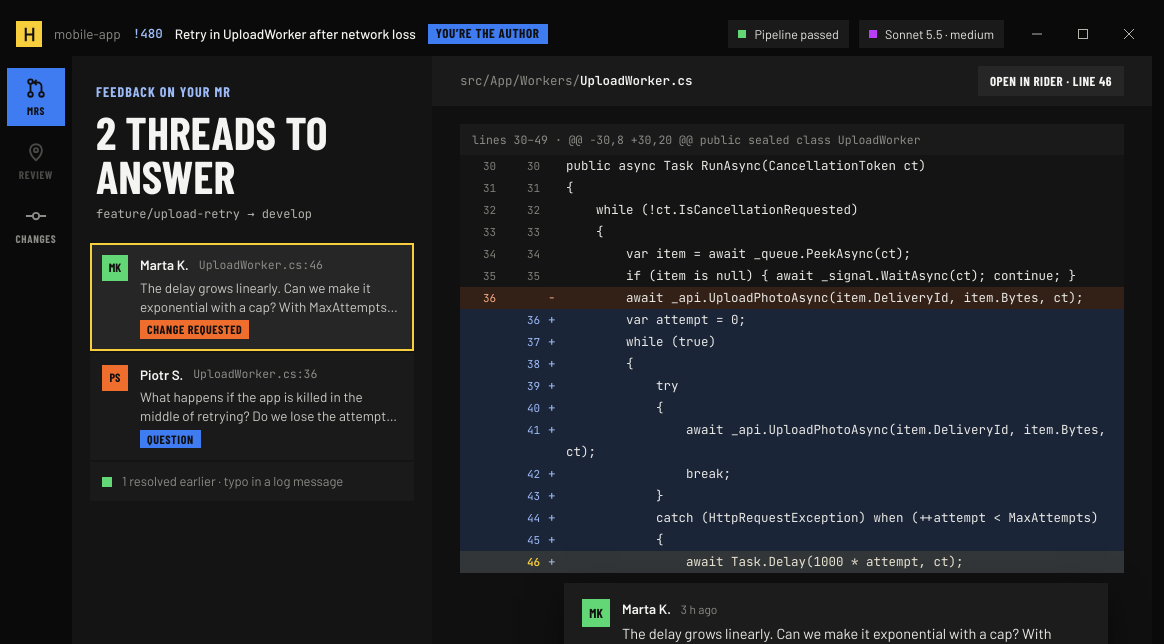
Test: S-10 question thread: reply composer (F-26.7) › F-26.7 a failed draft says so, keeps what was typed and offers Draft with Claude again
The width and height of the screenshot is (1164, 644).
Click the option that starts with "Piotr S.".
click(252, 406)  # box [90,353,414,460]
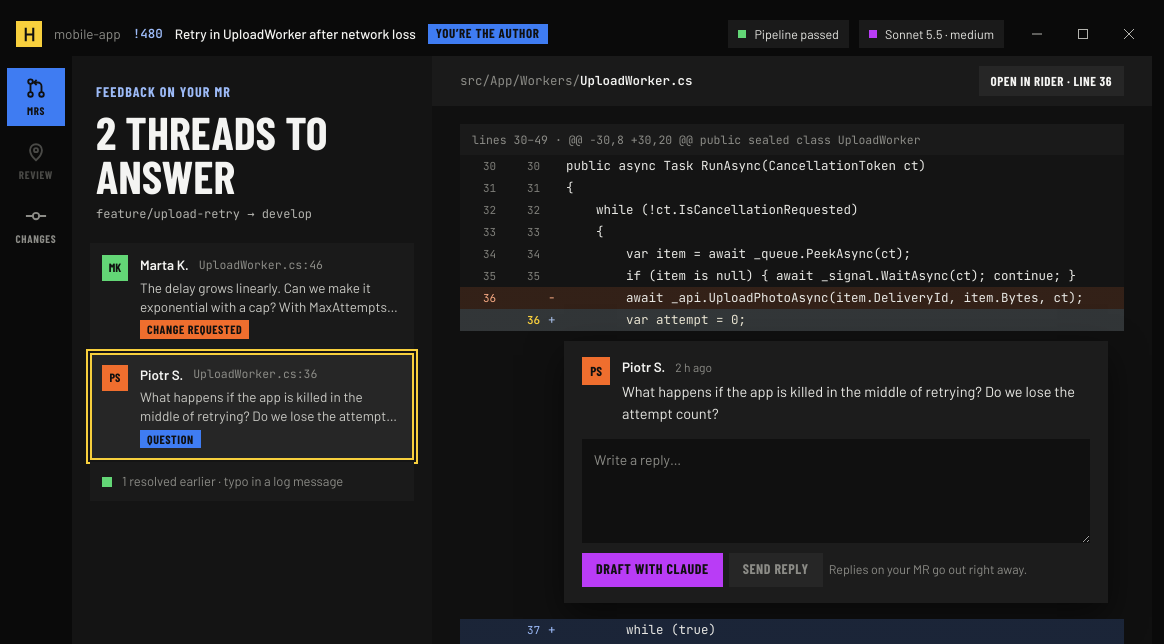
Check: the button "Open in Rider · line 36" is shown, box [978,66,1124,96]
Check: the text "What happens if the app is killed in the middle of retrying?" below "2 h ago" is shown, box [622,382,1078,422]
Type "My own start" into the text box.
click(836, 490); type("My own start")  # box [582,438,1090,542]
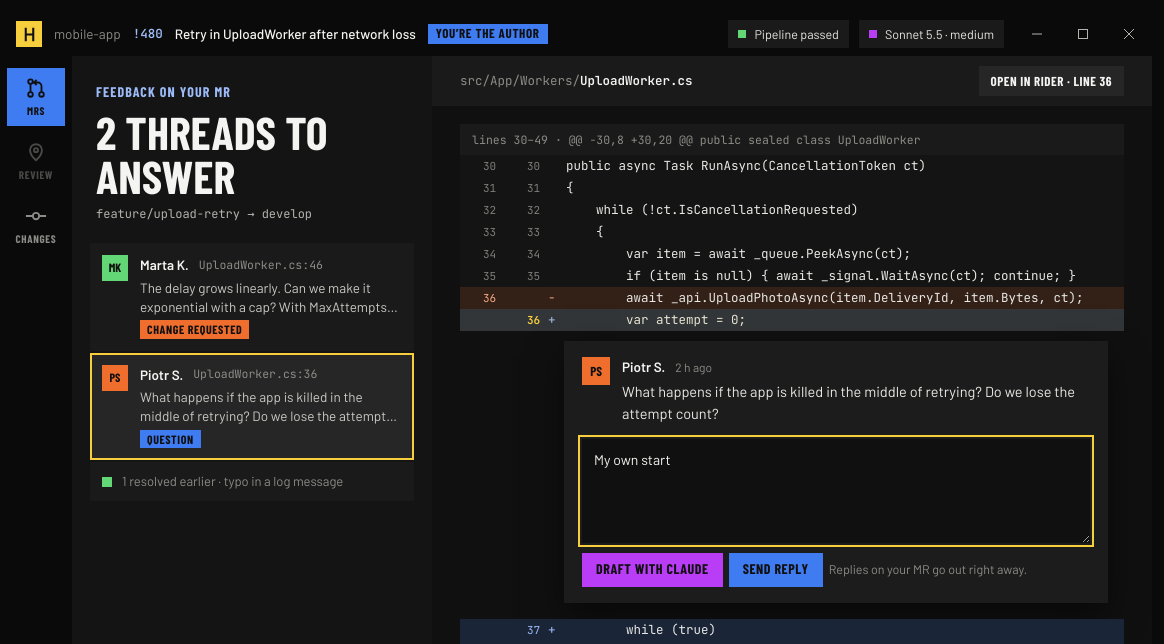
Click the button "Draft with Claude".
click(652, 570)  # box [582,552,723,586]
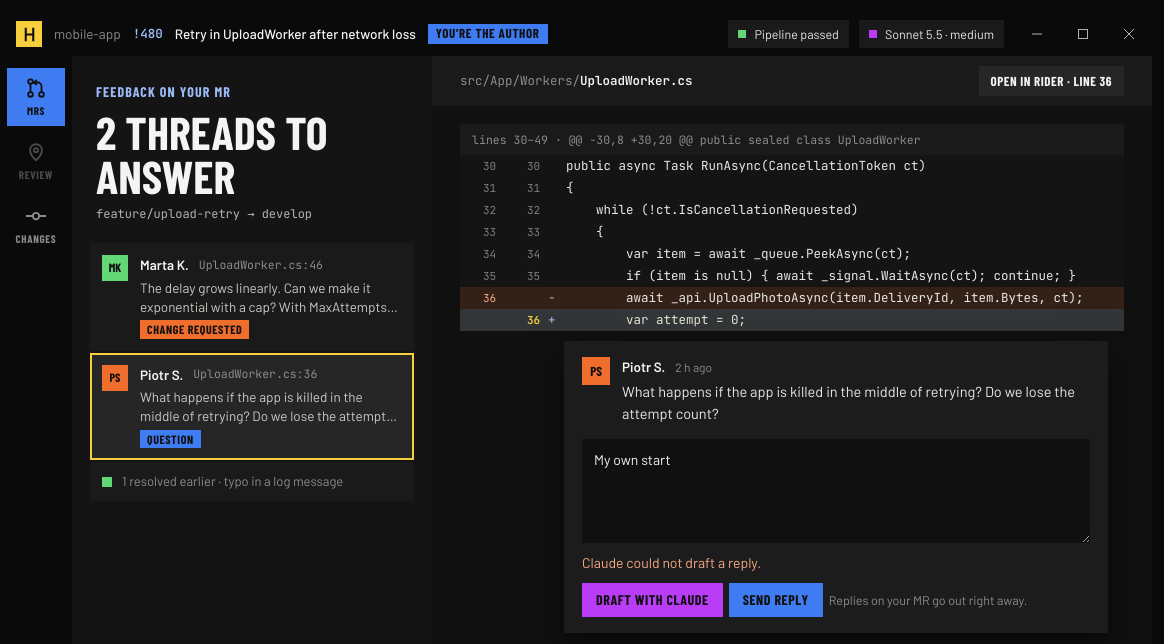
Check: the button "Draft with Claude" is enabled
Check: the button "Send reply" is enabled, box [729,583,823,617]
Check: the message reads "Claude could not draft a reply.", box [582,554,761,570]
Click the button "Draft with Claude".
click(652, 600)  # box [582,583,723,617]
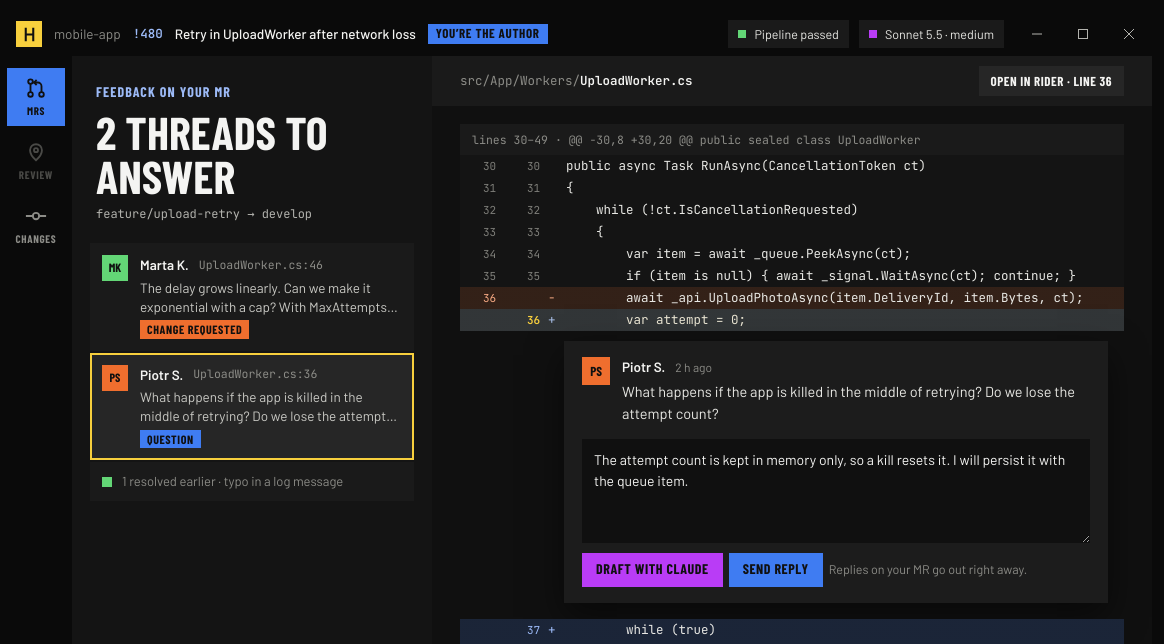
Check: the text box holds "The attempt count is kept in memory only, so a kill resets it. I will persist it with the queue item.", box [582,438,1090,542]
Check: the message "Claude could not draft a reply." is gone
